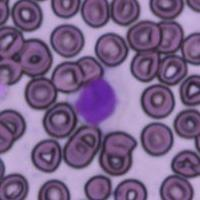L: (72, 76, 128, 128)
